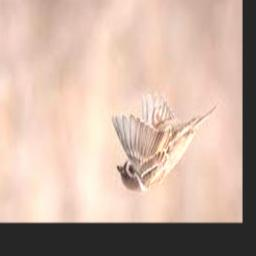Sparrow: (112, 91, 218, 193)
